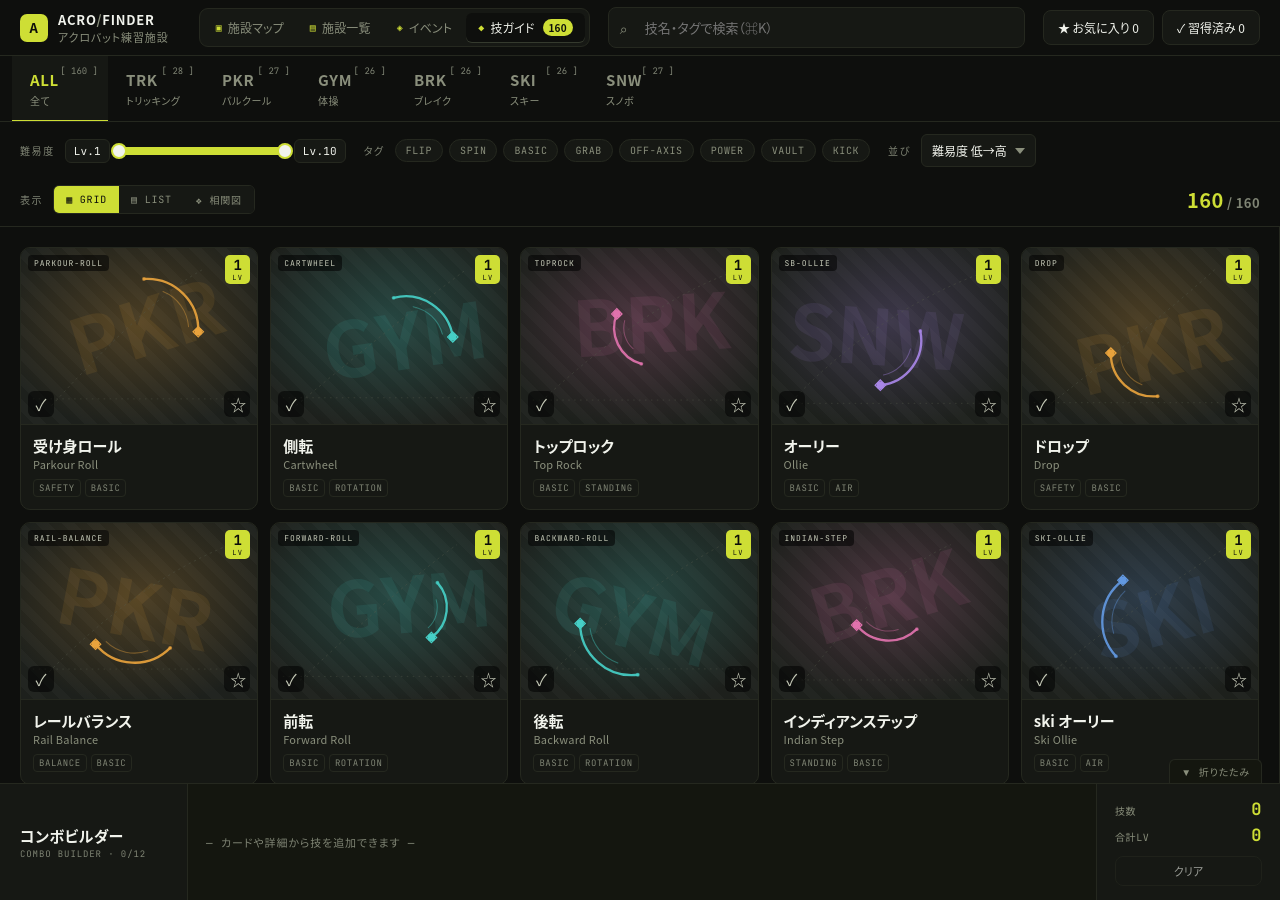
Test: SkillsApp › filters and sorting › filters to favourites and to learned skills
Click the button named "お気に入り" at (237, 404), box top-left (224, 391), bottom-right (250, 417)
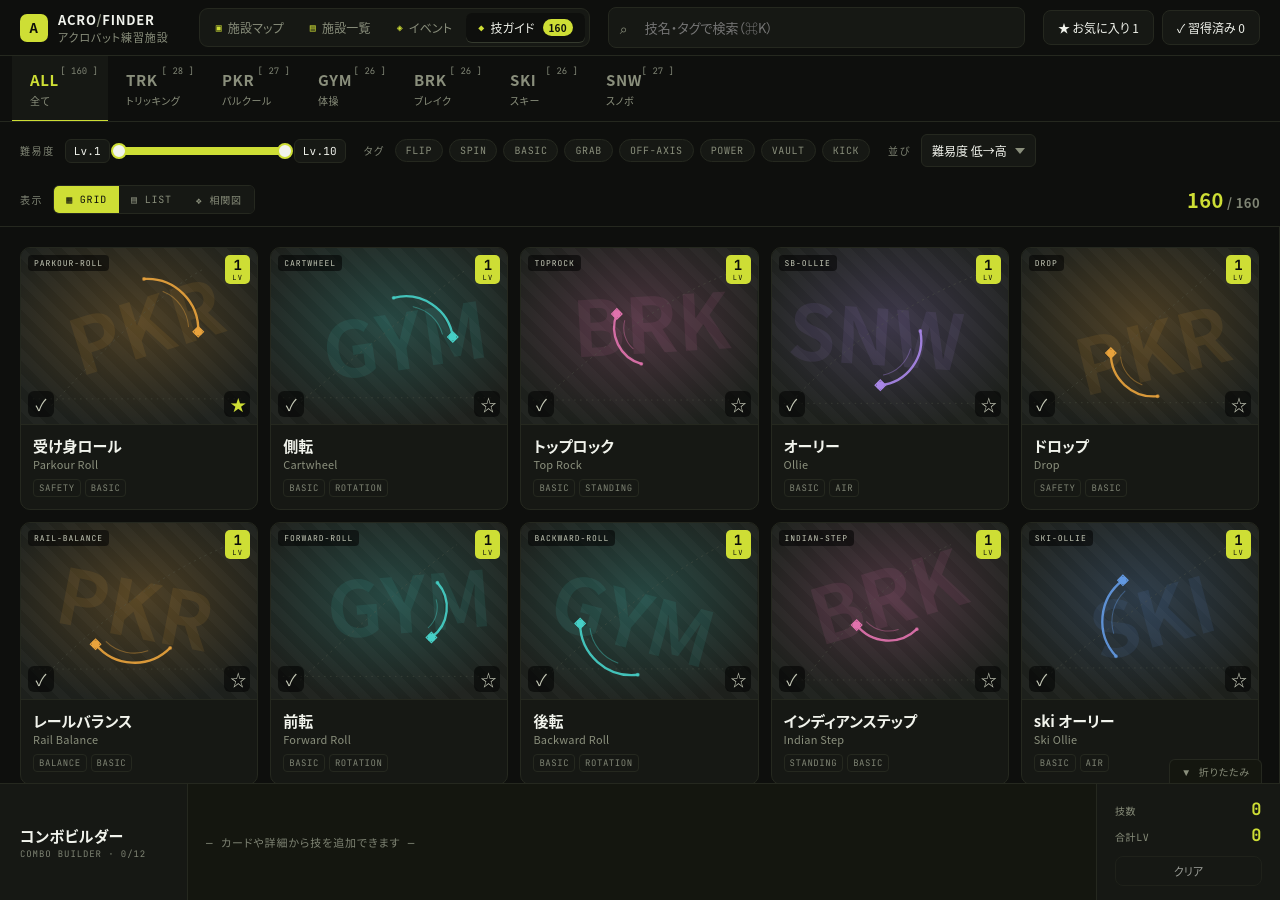
Click the button named "習得済み" at (291, 404), box top-left (278, 391), bottom-right (304, 417)
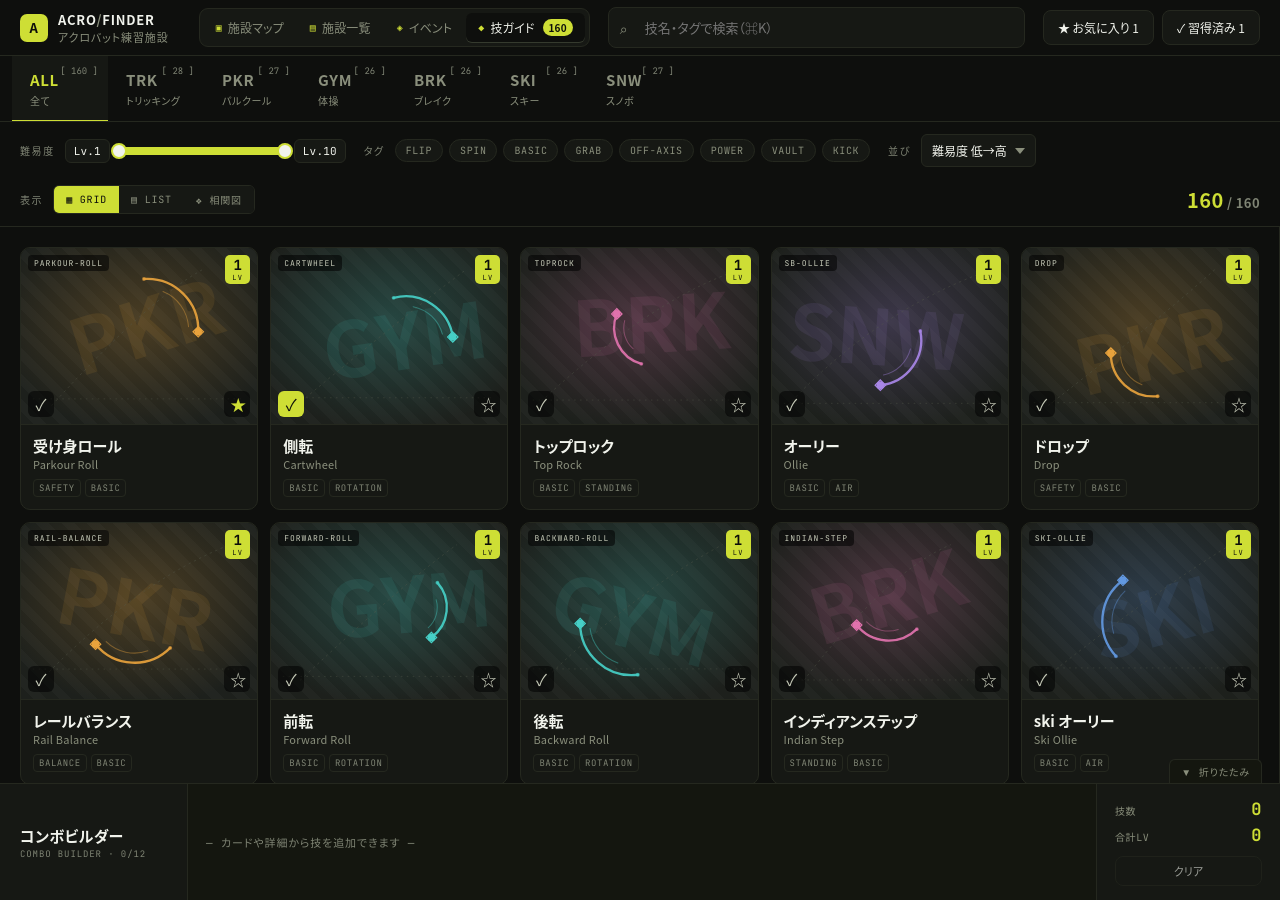
Result: the button "★ お気に入り 1" is shown
Result: the button "✓ 習得済み 1" is shown at top-left (1162, 10), bottom-right (1260, 45)
Click the button "★ お気に入り 1" at (1098, 28), box top-left (1043, 10), bottom-right (1154, 45)
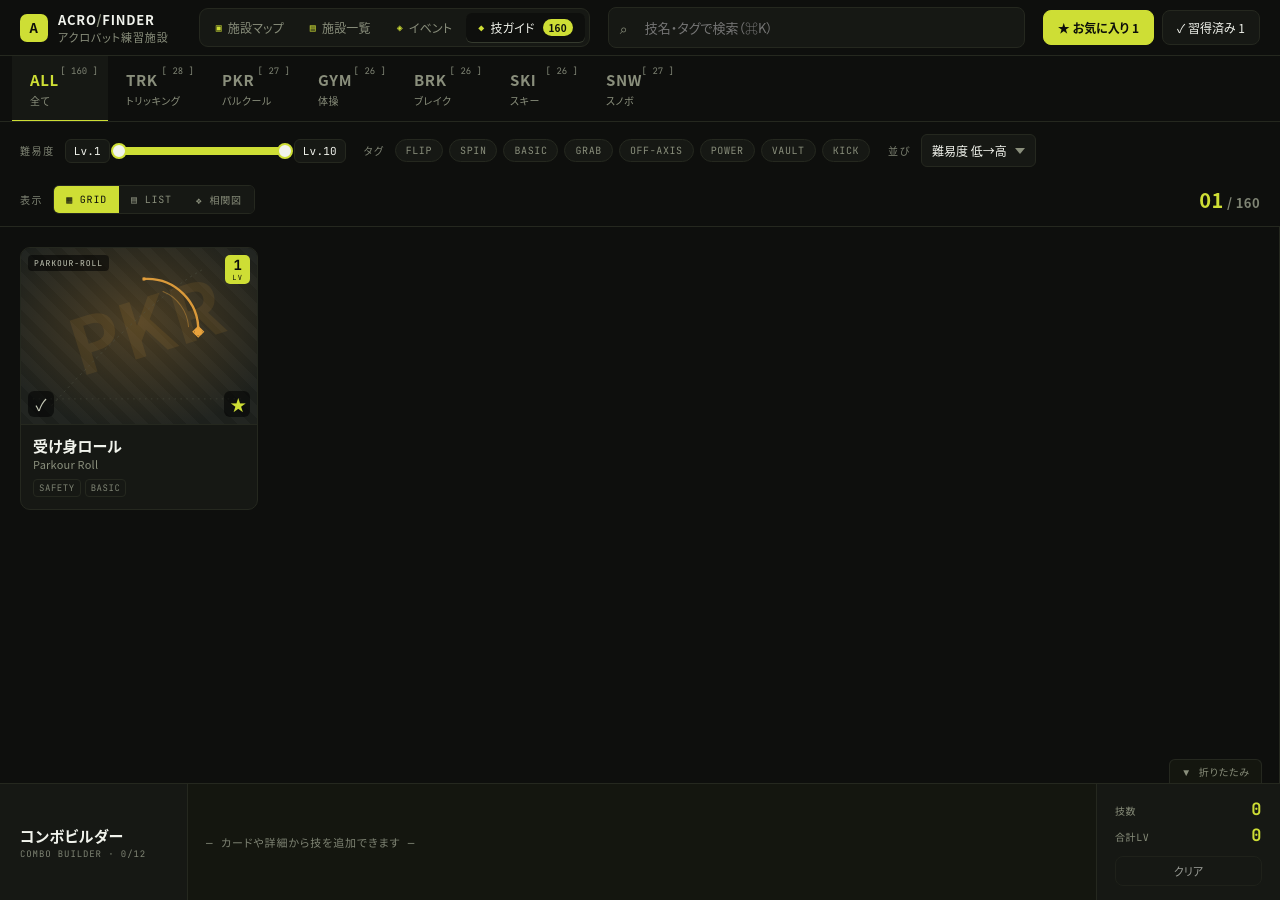
Expected: the button named "お気に入り" is shown, top-left (224, 391), bottom-right (250, 417)
Result: the number of elements with class "skl-card" is 1 at top-left (20, 247), bottom-right (258, 510)
Click the button "★ お気に入り 1" at (1098, 28), box top-left (1043, 10), bottom-right (1154, 45)
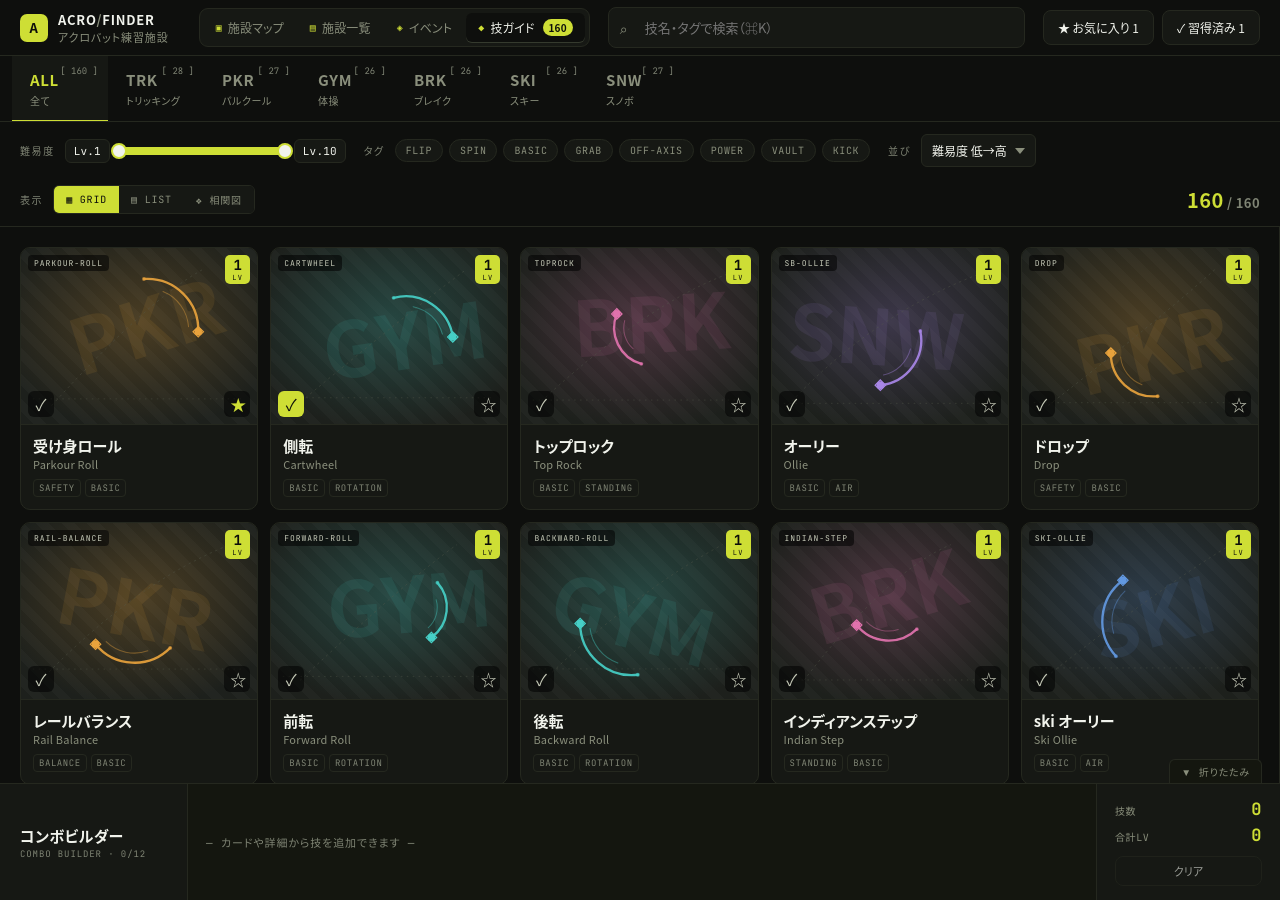
Click the button "✓ 習得済み 1" at (1211, 28), box top-left (1162, 10), bottom-right (1260, 45)
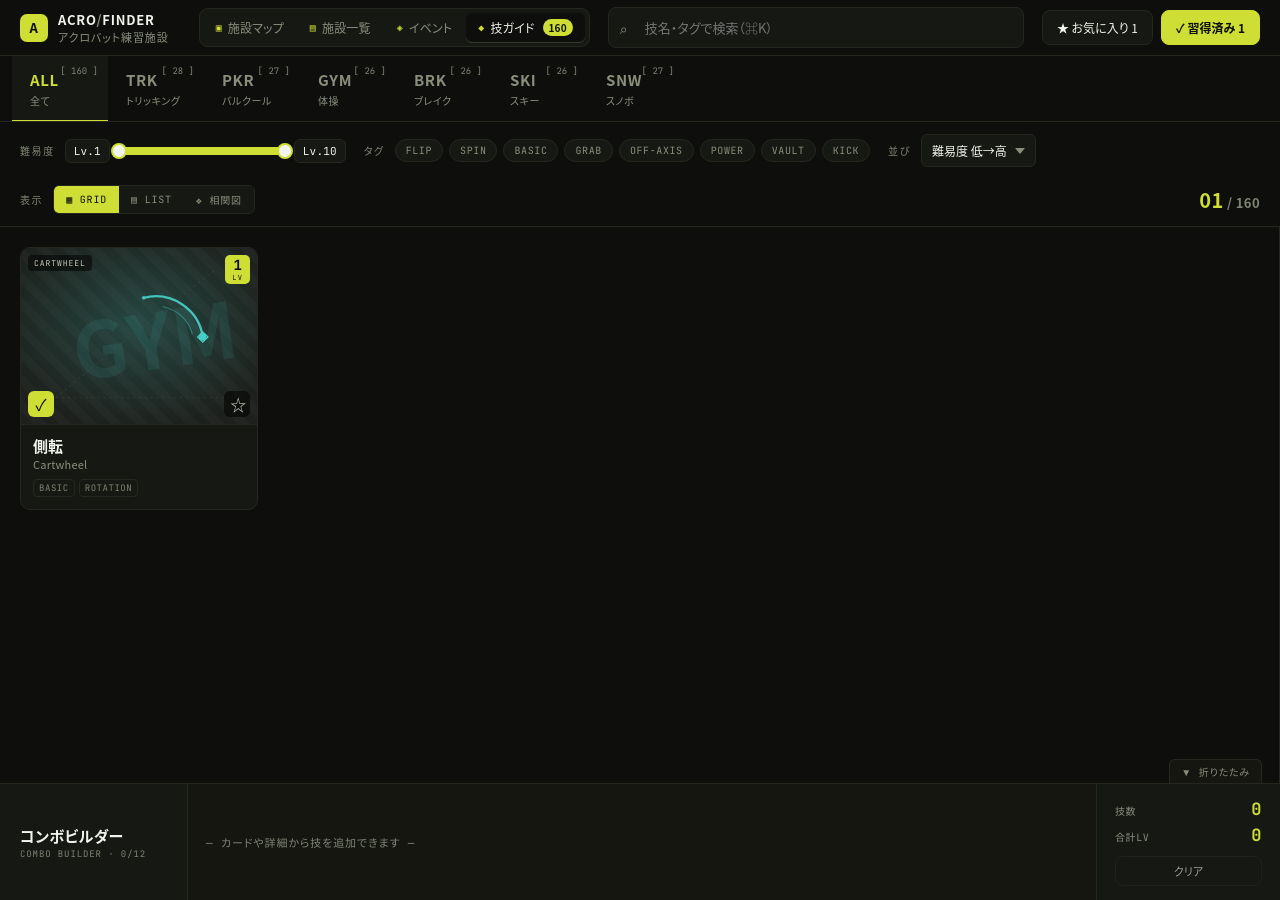
Result: the button with class "done" is shown
Result: the number of elements with class "skl-card" is 1 at top-left (20, 247), bottom-right (258, 510)
# Toggling again removes the mark and the filter now shows nothing.
Click the button named "習得済み" at (41, 404), box top-left (28, 391), bottom-right (54, 417)
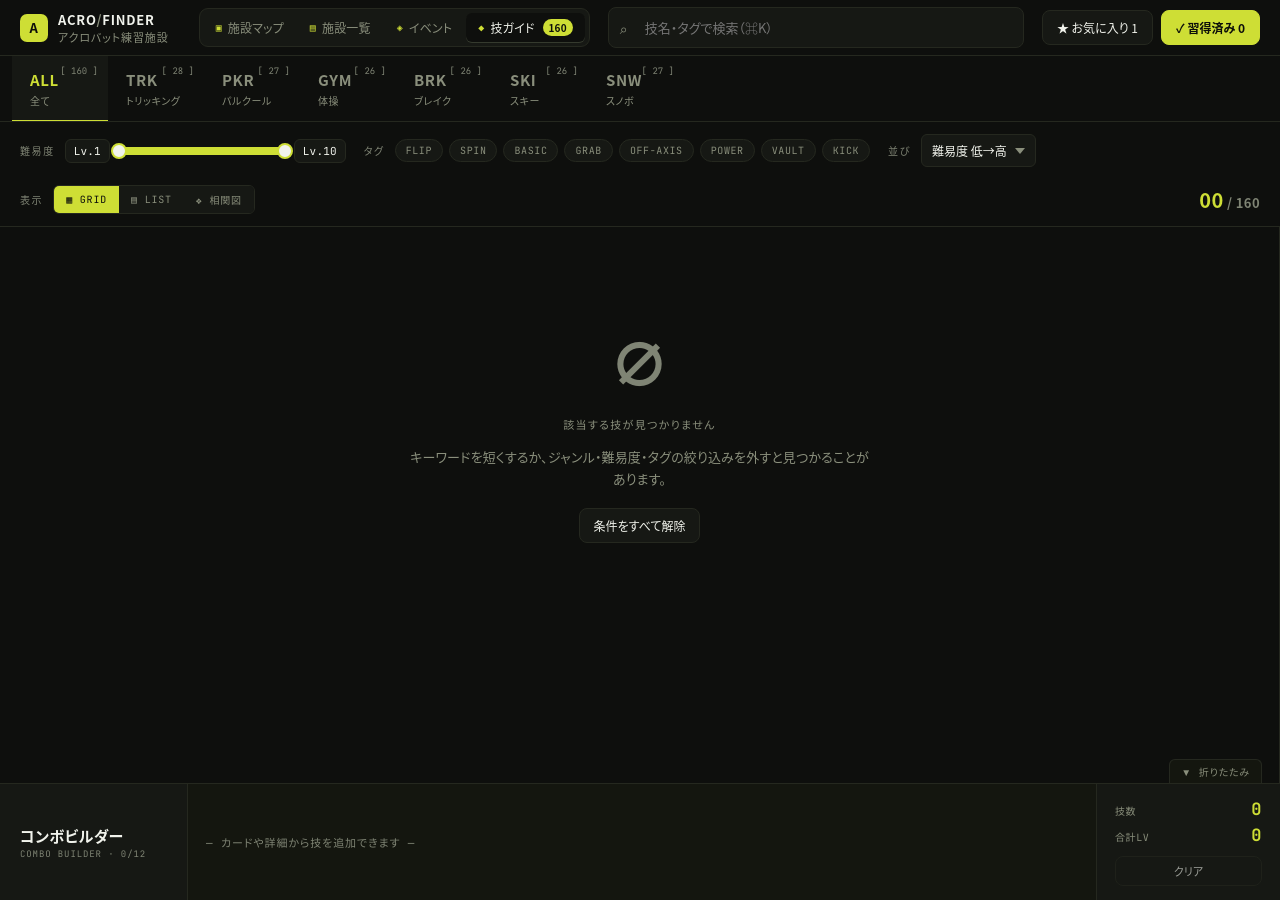
Result: no elements with class "skl-card" are shown
Result: the button "✓ 習得済み 0" is shown at top-left (1161, 10), bottom-right (1260, 45)
